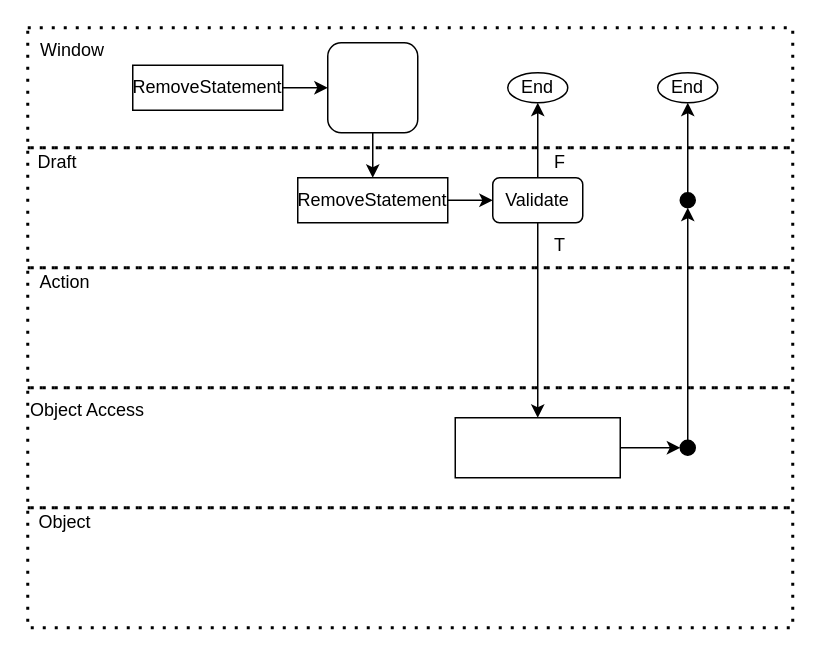
This 821x656 diagram has some shape labels left out. The shapes that lost their labels are listed below. From the top down, each one's centre as x and y in pixels, then its label:
At (372,87): "Create Response Ticket".
At (537,447): "Statement - RenoveStatement".
